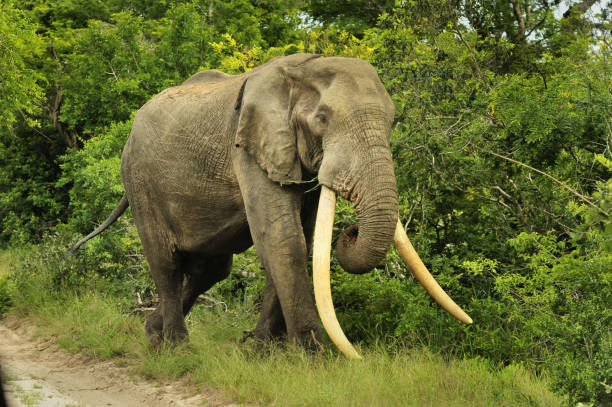africanelephant: (281, 45, 464, 350)
